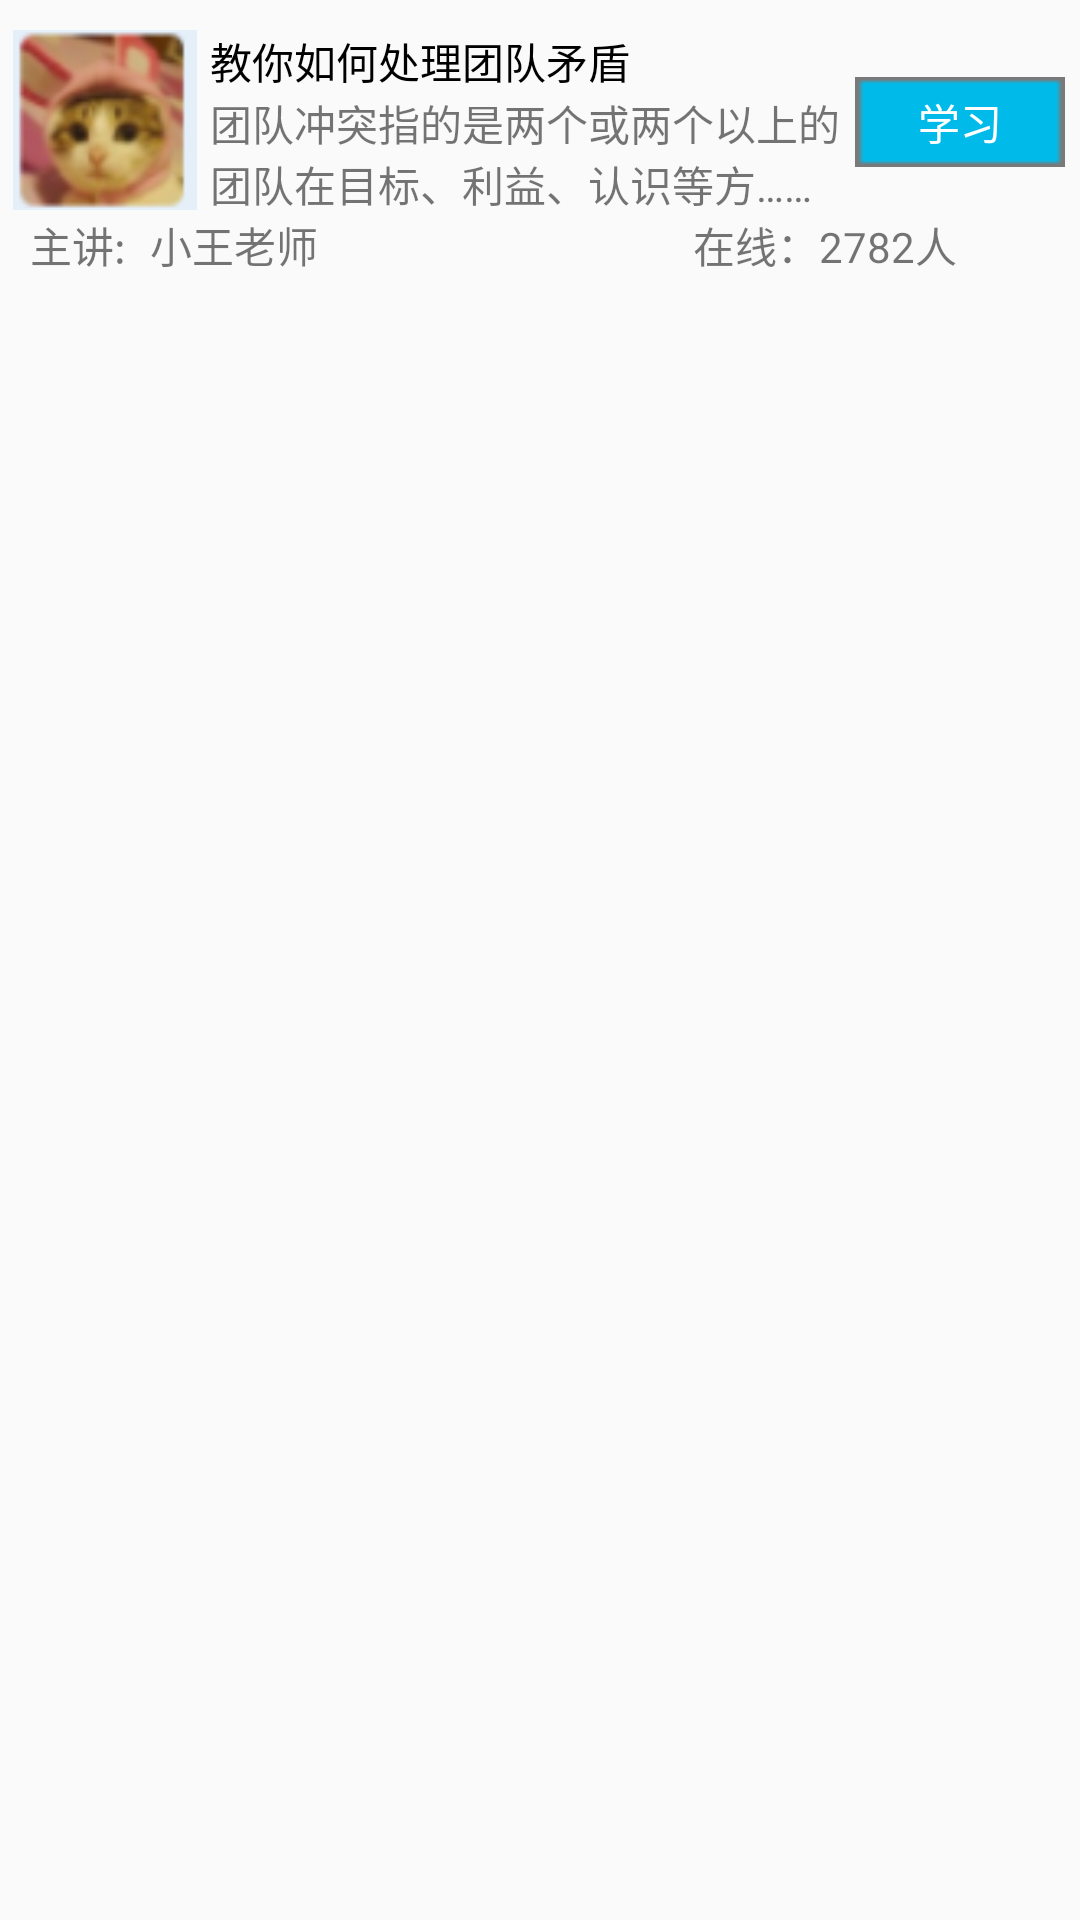

Screen size 1080x1920. Icon name, then its box in pixels as (x1, y1, x2, y2):
photo: (18, 32, 185, 208)
